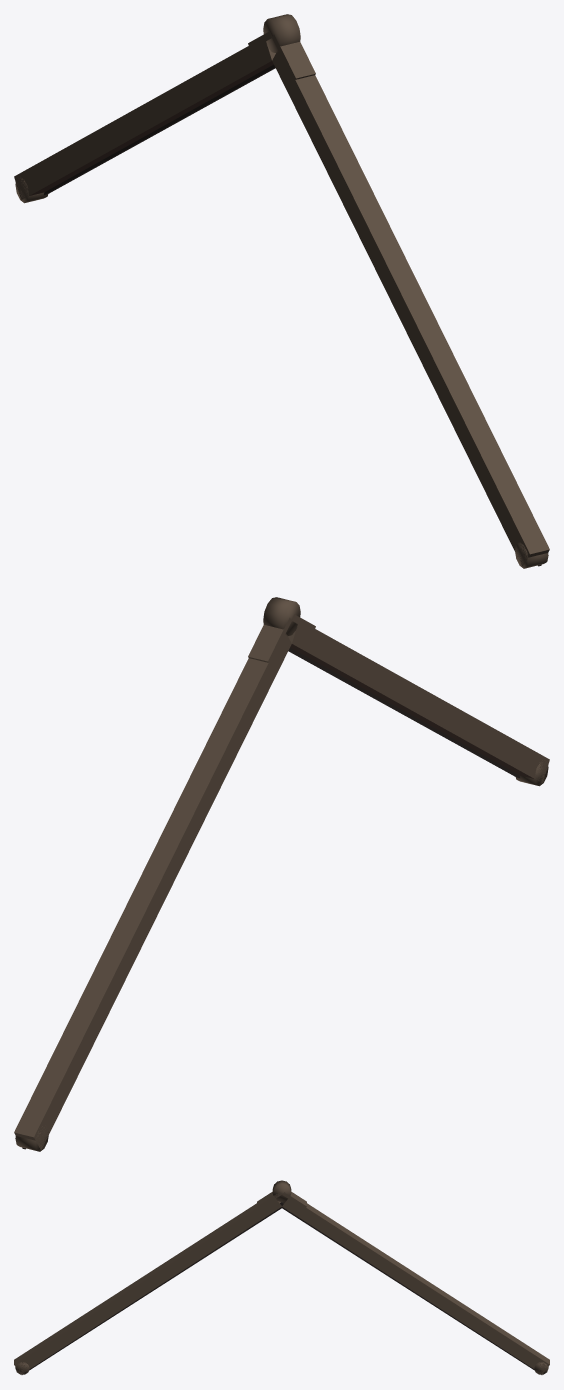
The model's file is kit_timber_thatch_w9_end.glb.
The picture shows the model from 3 angles, top to bottom: view 1: azimuth 30°, elevation 25°; view 2: azimuth 150°, elevation 25°; view 3: azimuth 270°, elevation 25°; orthographic projection. The views are drawn at different scales.
Parts seen in each view (by area): view 1: kit_timber_thatch_w9_end; view 2: kit_timber_thatch_w9_end; view 3: kit_timber_thatch_w9_end.
Part boxes in pixels (left/top/right/bottom): kit_timber_thatch_w9_end: left=14, top=14, right=549, bottom=568; kit_timber_thatch_w9_end: left=14, top=597, right=549, bottom=1151; kit_timber_thatch_w9_end: left=14, top=1180, right=549, bottom=1374.
Bounding box in the file's own units: 0.22 × 3.87 × 9.88.
